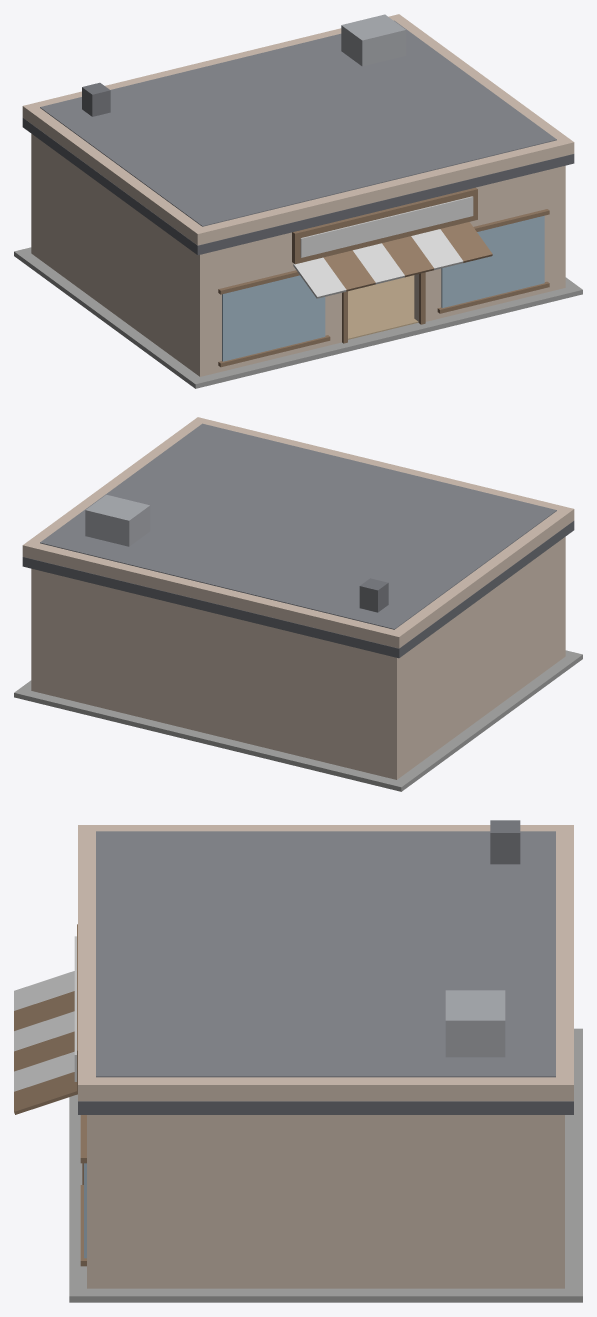
The model's file is Dukkan_Kafe.glb.
The picture shows the model from 3 angles, top to bottom: view 1: azimuth 30°, elevation 25°; view 2: azimuth 150°, elevation 25°; view 3: azimuth 270°, elevation 25°; orthographic projection. The views are drawn at different scales.
Visible parts, largest first — view 1: Dukkan_Kafe; view 2: Dukkan_Kafe; view 3: Dukkan_Kafe.
Part boxes in pixels (x1,y1,x2,y2): Dukkan_Kafe: (14,14,582,388); Dukkan_Kafe: (14,417,582,791); Dukkan_Kafe: (14,820,582,1302).
Size of the model in its own units: 10.6 by 4.65 by 9.52.
